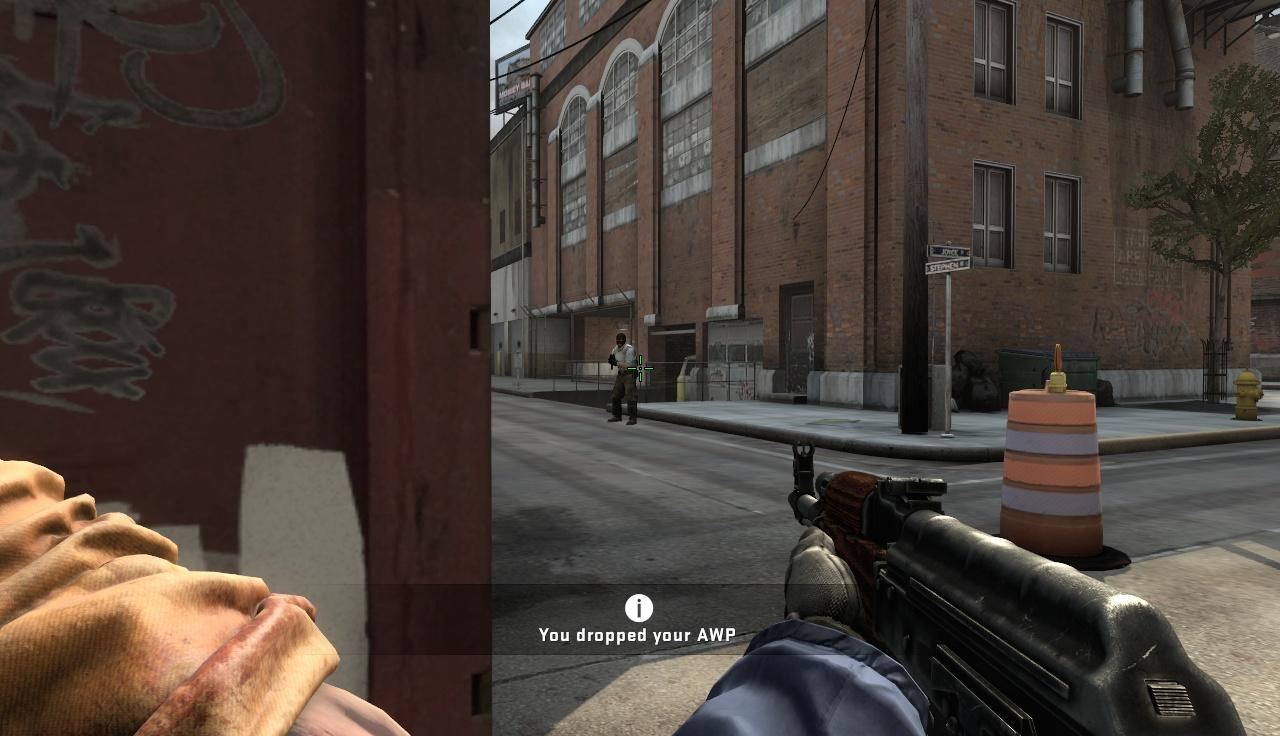rifle: (774, 437, 1259, 732)
tt: (606, 333, 637, 425)
tthead: (616, 333, 627, 347)
